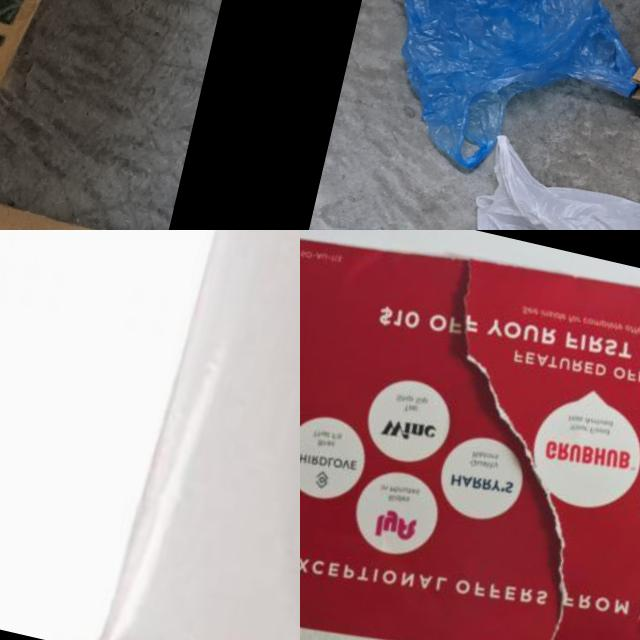papel: (300, 230, 640, 640)
papelão: (0, 0, 188, 214), (0, 113, 170, 230)
sacola plástica: (71, 230, 300, 640), (349, 0, 640, 202), (439, 133, 640, 230)
